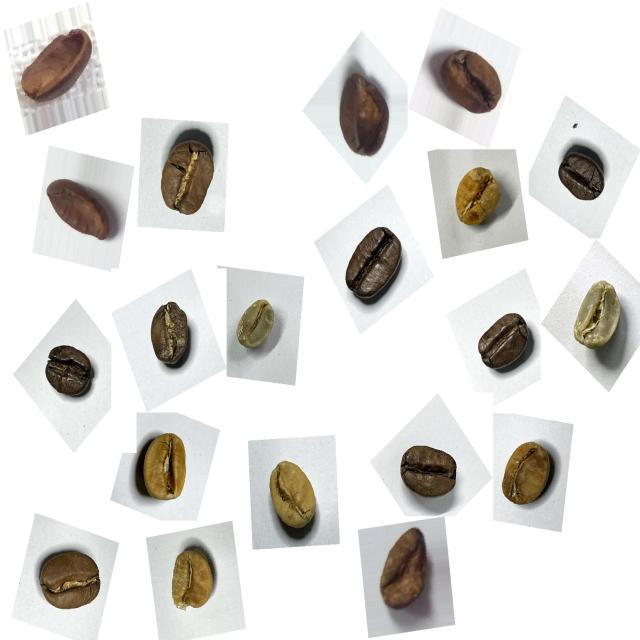bad: (13, 17, 97, 115), (325, 60, 399, 166), (431, 39, 512, 128), (370, 522, 440, 621), (41, 167, 119, 254)
dark: (335, 214, 411, 314), (392, 437, 465, 515), (469, 302, 539, 383), (550, 141, 615, 218), (38, 334, 103, 410)
green: (562, 272, 634, 367), (227, 288, 288, 364)
light: (256, 452, 329, 550), (128, 424, 200, 515), (161, 538, 227, 624), (446, 160, 512, 242)
medium: (148, 129, 228, 232), (30, 540, 110, 626), (491, 429, 562, 518), (140, 294, 202, 378)
